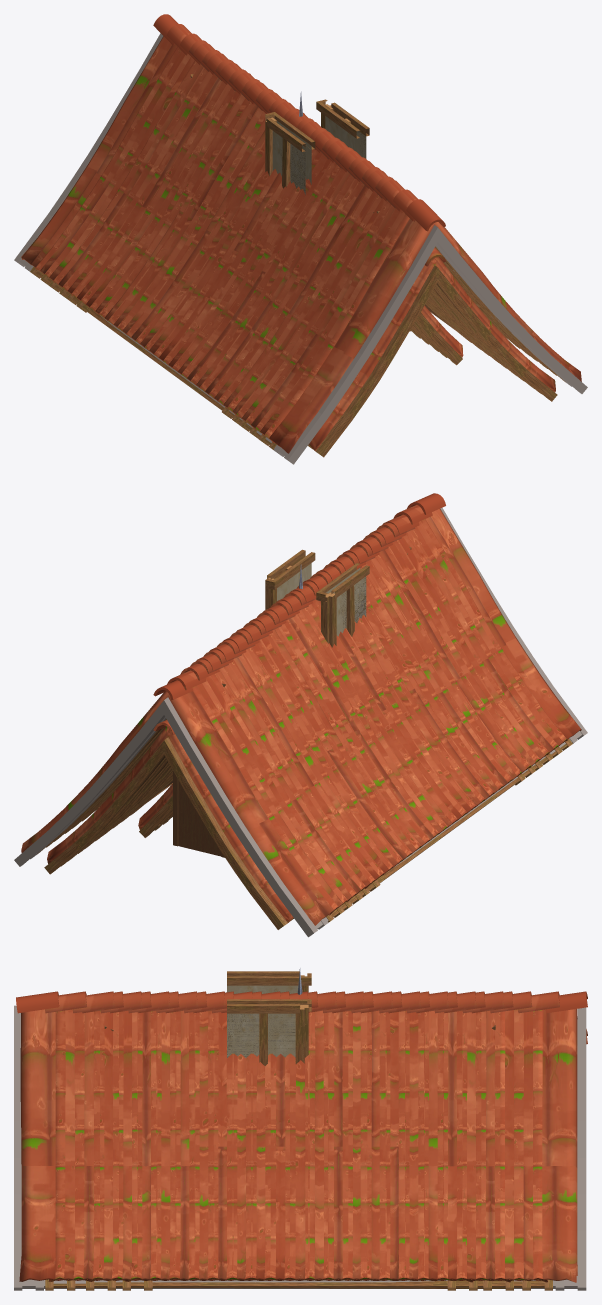
File: village.glb
3 renders of one model, top to bottom at view 1: azimuth 30°, elevation 25°; view 2: azimuth 150°, elevation 25°; view 3: azimuth 270°, elevation 25°, orthographic. The views are drawn at different scales.
Visible parts, largest first — view 1: Roof_RoundTiles_8x14, Roof_RoundTiles_8x12, Roof_RoundTiles_8x10, Roof_RoundTiles_6x14, Roof_RoundTiles_8x8, Overhang_Side_Plaster_Long_L, Overhang_Side_Plaster_Long_R, Roof_RoundTiles_4x8, Overhang_Side_Plaster_Short_L; view 2: Roof_RoundTiles_8x14, Roof_RoundTiles_8x10, Roof_RoundTiles_8x12, Roof_RoundTiles_8x8, Roof_RoundTiles_6x14, Stair_Interior_SolidExtended, Overhang_Side_Plaster_Long_L, Overhang_Side_Plaster_Long_R, Overhang_Side_Plaster_Short_L, Roof_RoundTiles_4x8; view 3: Roof_RoundTiles_8x14, Roof_RoundTiles_8x12, Roof_RoundTiles_8x10, Roof_RoundTiles_8x8, Overhang_Side_Plaster_Long_R, Overhang_Side_Plaster_Long_L, Overhang_Side_Plaster_Short_R, Overhang_Side_UnevenBrick_Long_R.
Boxes of the visible parts, x1,y1,x2,y2 form: Roof_RoundTiles_8x14: [14, 14, 587, 464]; Roof_RoundTiles_8x12: [30, 24, 565, 449]; Roof_RoundTiles_8x10: [48, 40, 547, 438]; Roof_RoundTiles_6x14: [308, 248, 557, 457]; Roof_RoundTiles_8x8: [66, 50, 529, 424]; Overhang_Side_Plaster_Long_L: [265, 112, 315, 194]; Overhang_Side_Plaster_Long_R: [316, 100, 369, 158]; Roof_RoundTiles_4x8: [413, 305, 463, 365]; Overhang_Side_Plaster_Short_L: [265, 114, 293, 188]; Roof_RoundTiles_8x14: [14, 493, 587, 937]; Roof_RoundTiles_8x10: [54, 523, 553, 910]; Roof_RoundTiles_8x12: [36, 505, 572, 922]; Roof_RoundTiles_8x8: [72, 533, 535, 896]; Roof_RoundTiles_6x14: [44, 720, 293, 929]; Stair_Interior_SolidExtended: [173, 771, 224, 857]; Overhang_Side_Plaster_Long_L: [316, 563, 369, 647]; Overhang_Side_Plaster_Long_R: [265, 549, 315, 609]; Overhang_Side_Plaster_Short_L: [317, 576, 354, 645]; Roof_RoundTiles_4x8: [138, 783, 172, 837]; Roof_RoundTiles_8x14: [14, 991, 587, 1290]; Roof_RoundTiles_8x12: [45, 991, 559, 1290]; Roof_RoundTiles_8x10: [82, 991, 513, 1290]; Roof_RoundTiles_8x8: [122, 991, 485, 1290]; Overhang_Side_Plaster_Long_R: [227, 999, 311, 1065]; Overhang_Side_Plaster_Long_L: [227, 971, 311, 993]; Overhang_Side_Plaster_Short_R: [259, 999, 311, 1064]; Overhang_Side_UnevenBrick_Long_R: [227, 1014, 295, 1057].
Size of the model in its own units: 9.95 by 8.91 by 15.71.
10 materials, 9 textured.
